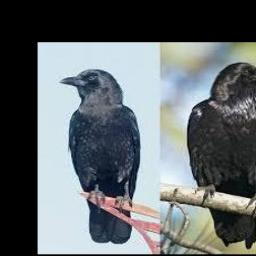Crow: (58, 68, 141, 244), (186, 62, 256, 249)
